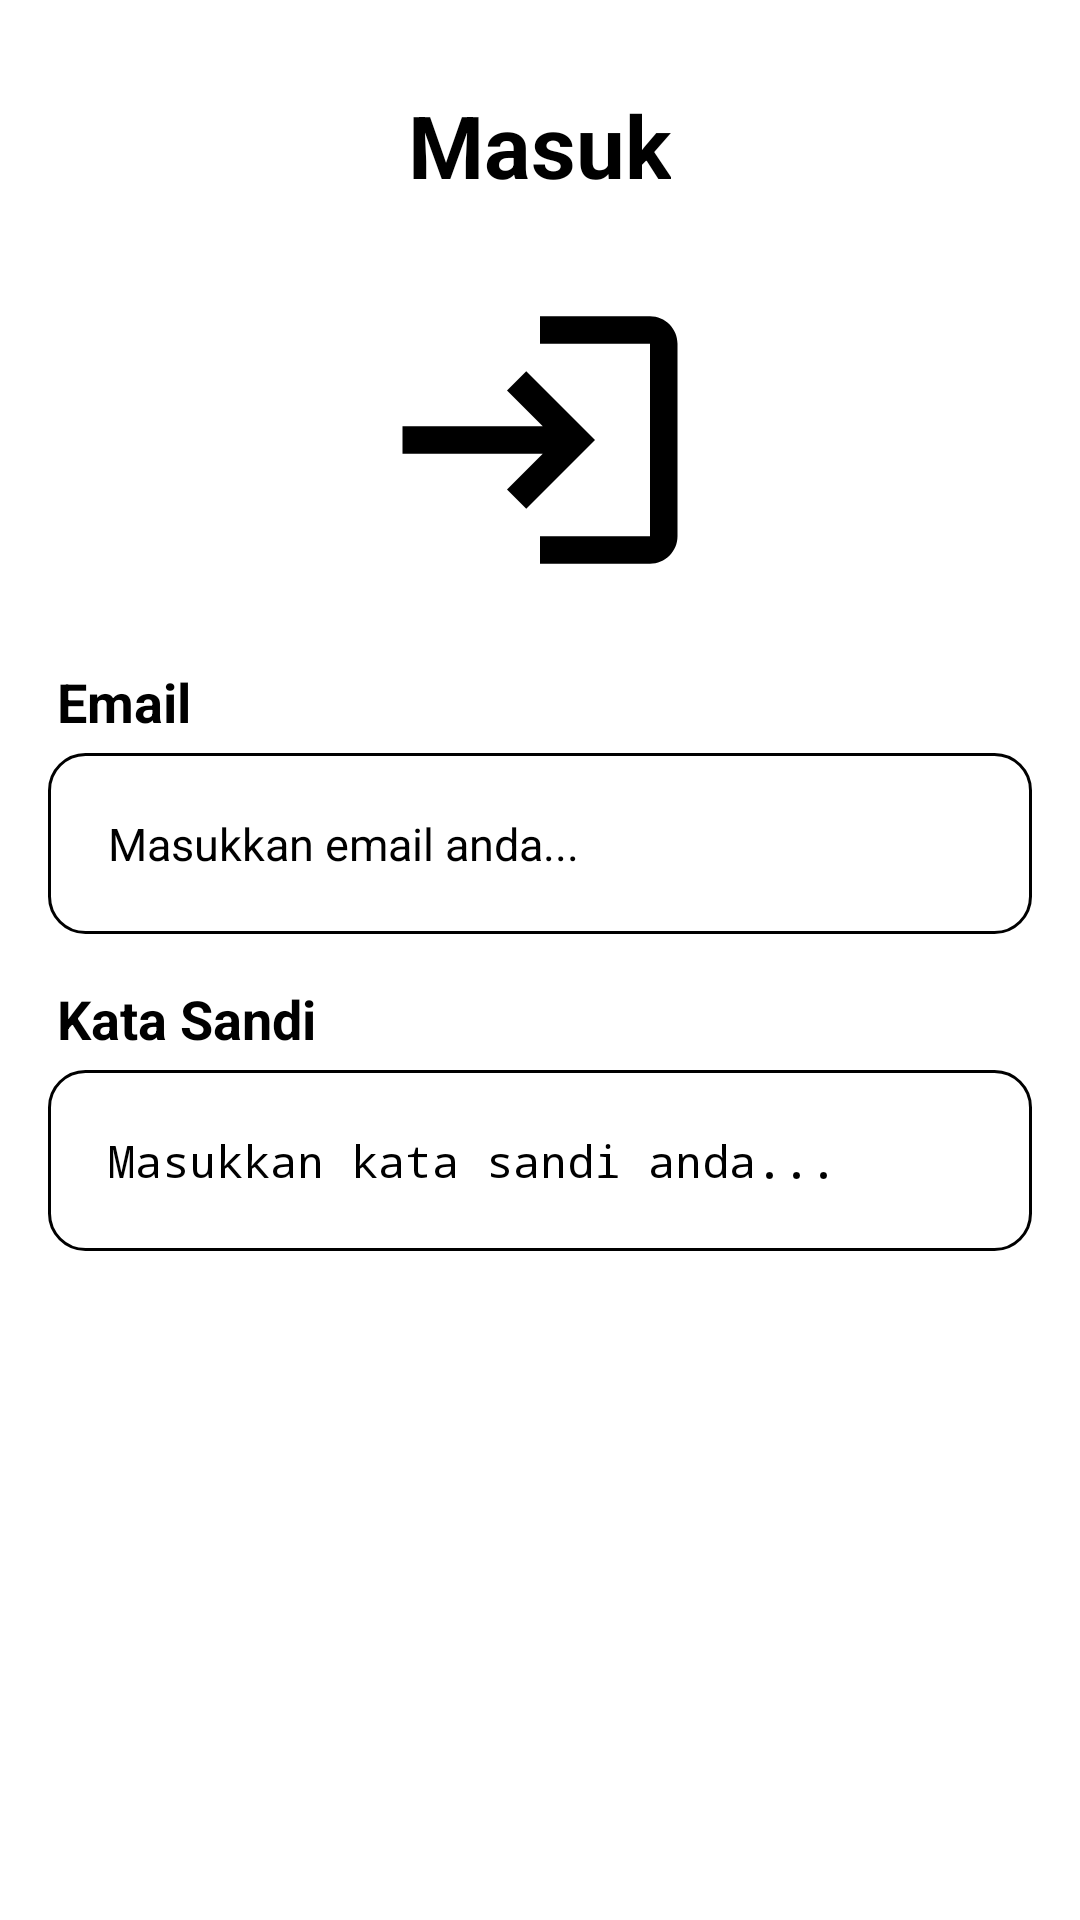

Icon bounding boxes for this 1080*1920 phone screenshot, format Rect(x1, y1, x2, y2):
login: Rect(402, 316, 678, 564)
